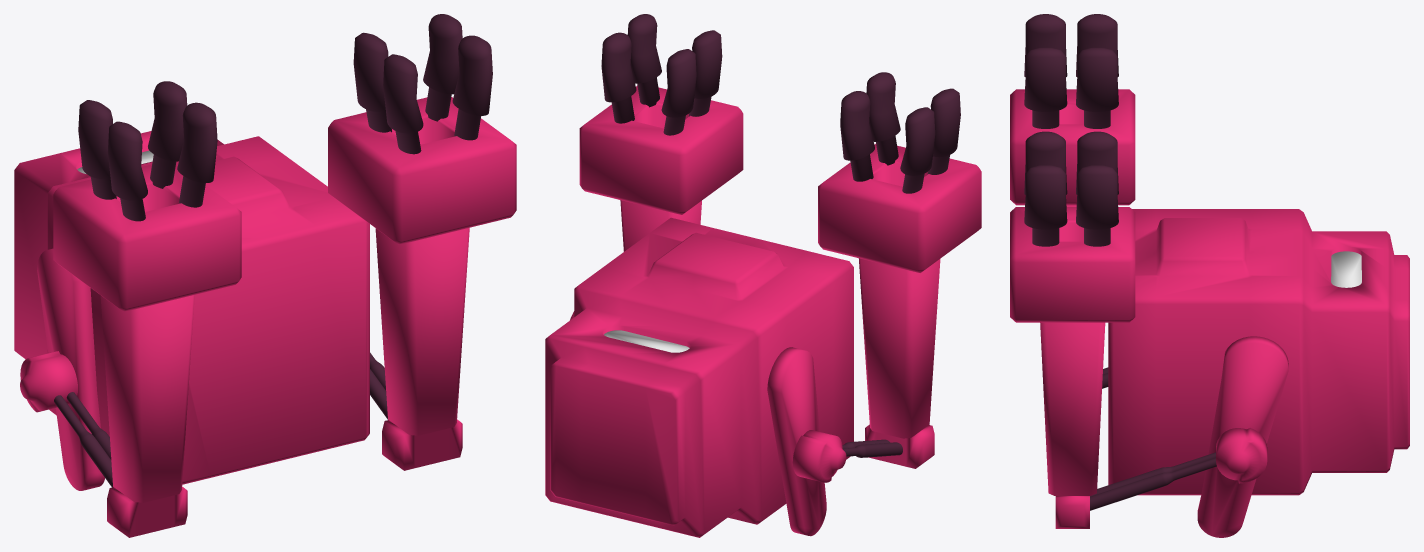
Rendered from EnemyRobot.fbx.
3 views of the same model, side by side, from view 1: azimuth 30°, elevation 25°; view 2: azimuth 150°, elevation 25°; view 3: azimuth 270°, elevation 25° (orthographic). The views are drawn at different scales.
Parts seen in each view (by area): view 1: 큐브.001; view 2: 큐브.001; view 3: 큐브.001.
Boxes of the visible parts, bbox=[...] form: 큐브.001: bbox=[14, 14, 516, 537]; 큐브.001: bbox=[545, 14, 981, 537]; 큐브.001: bbox=[1010, 14, 1409, 537].
Bounding box in the file's own units: 368 × 397 × 365.
